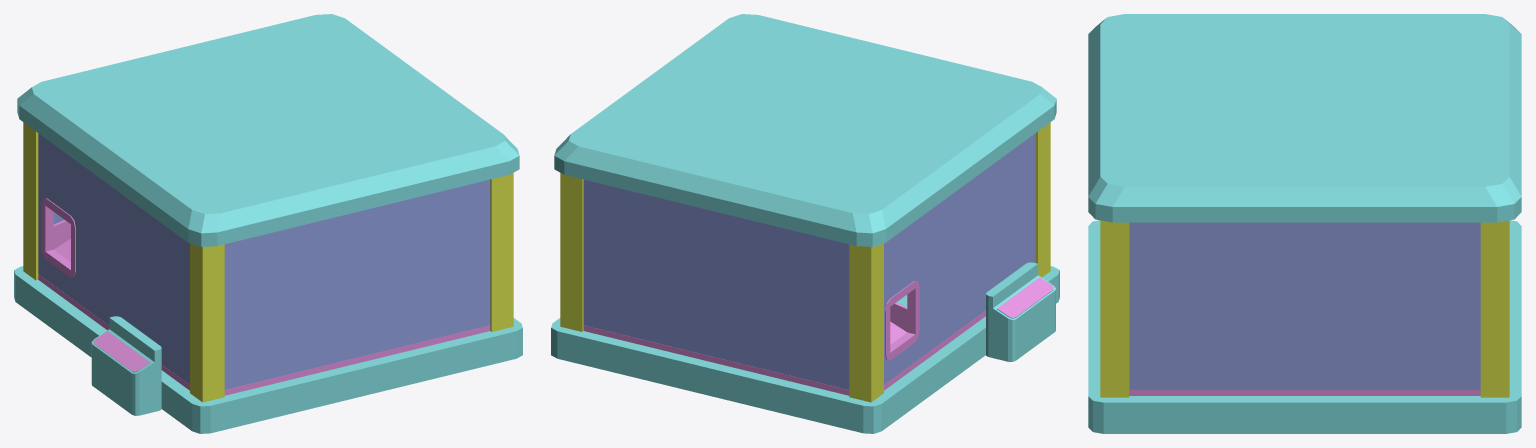
File: CraneBox.fbx
3 renders of one model, left to right at view 1: azimuth 30°, elevation 25°; view 2: azimuth 150°, elevation 25°; view 3: azimuth 270°, elevation 25°, orthographic. The views are drawn at different scales.
Visible parts, largest first — view 1: Roof, Windows, Floor, Pillars, Console, Bounds, Chute; view 2: Roof, Windows, Floor, Pillars, Console, Bounds, Chute; view 3: Roof, Windows, Floor, Pillars, Bounds.
Part boxes in pixels (<box>): Roof: <box>17,14,519,246</box>; Windows: <box>38,133,490,389</box>; Floor: <box>14,266,522,433</box>; Pillars: <box>23,122,513,402</box>; Console: <box>91,316,161,415</box>; Bounds: <box>38,274,490,395</box>; Chute: <box>41,198,75,277</box>; Roof: <box>554,14,1056,246</box>; Windows: <box>583,133,1035,389</box>; Floor: <box>551,266,1059,433</box>; Pillars: <box>560,122,1050,402</box>; Console: <box>986,262,1055,361</box>; Bounds: <box>583,310,985,395</box>; Chute: <box>885,281,919,360</box>; Roof: <box>1088,14,1521,222</box>; Windows: <box>1129,222,1480,389</box>; Floor: <box>1088,220,1521,433</box>; Pillars: <box>1100,220,1509,397</box>; Bounds: <box>1129,389,1480,395</box>.
Bounding box in the file's own units: 2955 × 1676 × 2720.
